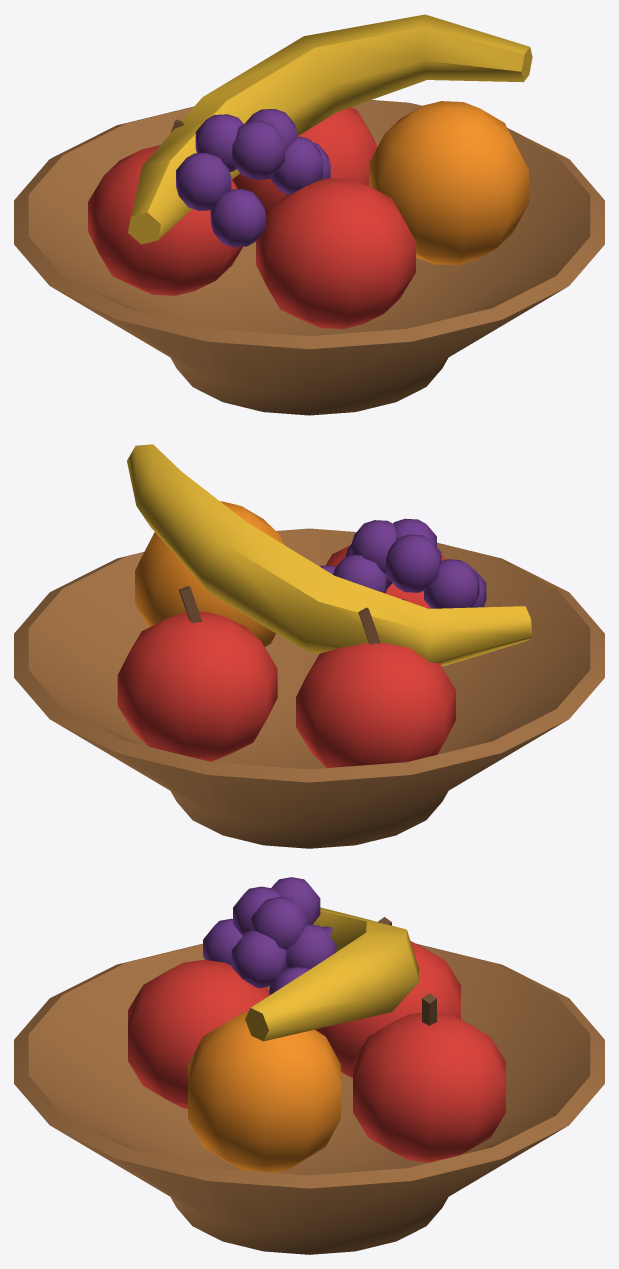
File: fruit-bowl.glb
3 views of the same model, one above another, from view 1: azimuth 30°, elevation 25°; view 2: azimuth 150°, elevation 25°; view 3: azimuth 270°, elevation 25° (orthographic).
Parts seen in each view (by area): view 1: Fruit bowl, Apples, Banana, Orange, Grapes; view 2: Fruit bowl, Apples, Banana, Grapes, Orange, Apple stalks; view 3: Fruit bowl, Apples, Orange, Banana, Grapes, Apple stalks.
Part boxes in pixels (<box>): Fruit bowl: <box>14,100,604,415</box>; Apples: <box>88,107,415,328</box>; Banana: <box>128,14,532,244</box>; Orange: <box>369,101,528,265</box>; Grapes: <box>176,109,330,247</box>; Fruit bowl: <box>14,528,604,848</box>; Apples: <box>117,545,455,767</box>; Banana: <box>127,444,532,666</box>; Grapes: <box>320,518,486,608</box>; Orange: <box>135,501,285,646</box>; Apple stalks: <box>178,586,380,644</box>; Fruit bowl: <box>14,943,604,1254</box>; Apples: <box>128,941,505,1162</box>; Orange: <box>188,1011,340,1172</box>; Banana: <box>245,907,419,1041</box>; Grapes: <box>203,877,336,995</box>; Apple stalks: <box>377,917,436,1025</box>.
Bounding box in the file's own units: 0.4 × 0.2177 × 0.3939.
